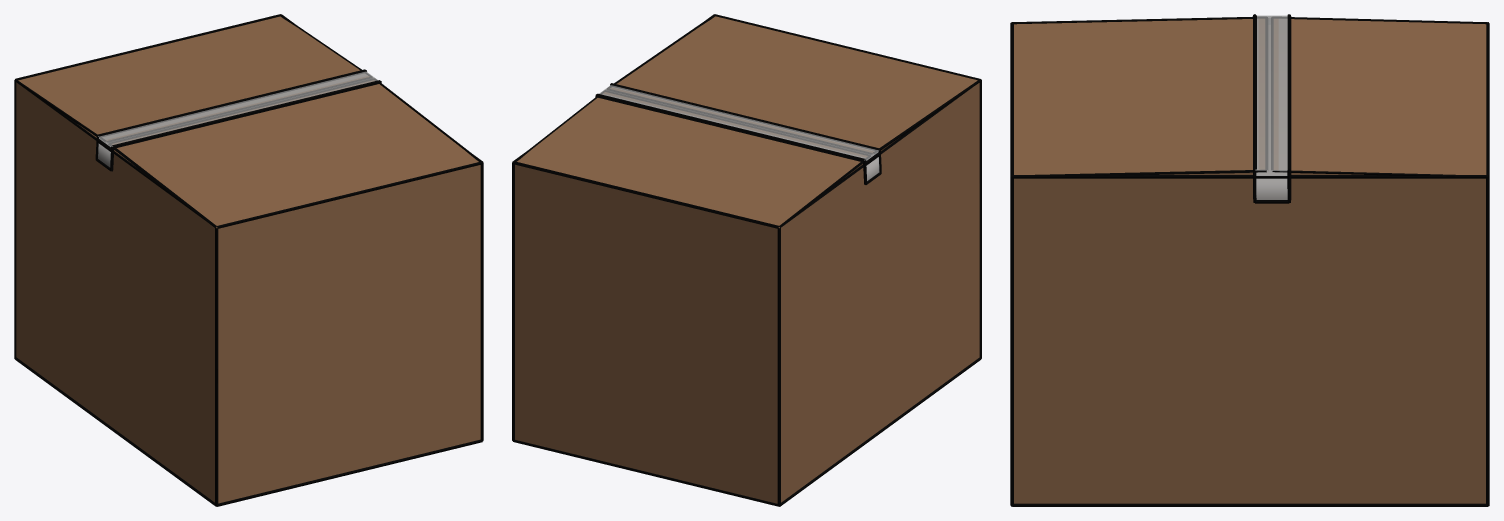
Rendered from CardboardBox_Closed.fbx.
3 views of the same model, side by side, from view 1: azimuth 30°, elevation 25°; view 2: azimuth 150°, elevation 25°; view 3: azimuth 270°, elevation 25° (orthographic). The views are drawn at different scales.
Parts seen in each view (by area): view 1: pCube6, Main; view 2: pCube6, Main; view 3: pCube6, Main.
Part boxes in pixels (x1=…): pCube6: x1=16, y1=16, x2=480, y2=503; Main: x1=14, y1=14, x2=483, y2=506; pCube6: x1=515, y1=16, x2=979, y2=503; Main: x1=512, y1=14, x2=981, y2=506; pCube6: x1=1014, y1=15, x2=1486, y2=503; Main: x1=1010, y1=14, x2=1489, y2=506.
Bounding box in the file's own units: 5.72 × 5.76 × 7.38.
